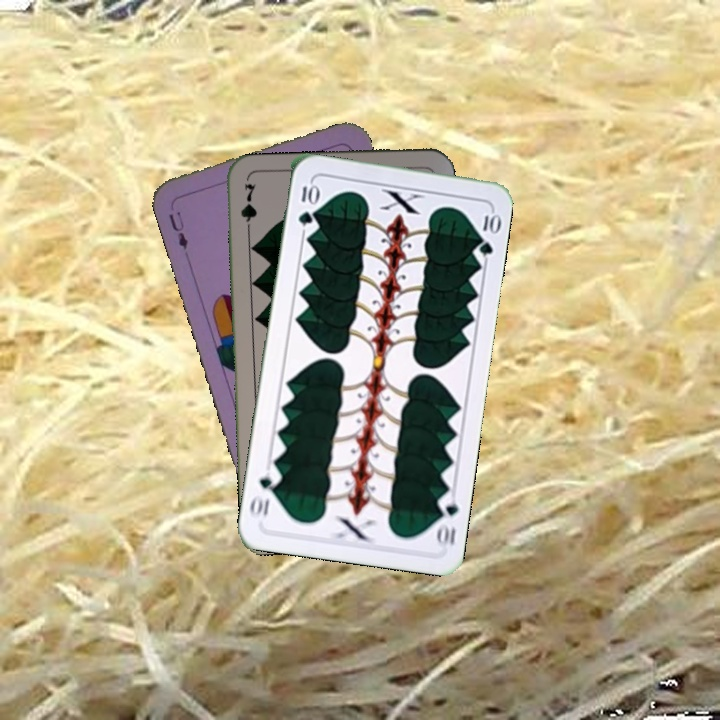EU: (165, 207, 191, 253)
G10: (432, 490, 461, 550), (294, 178, 319, 228)
G7: (237, 179, 259, 238)
